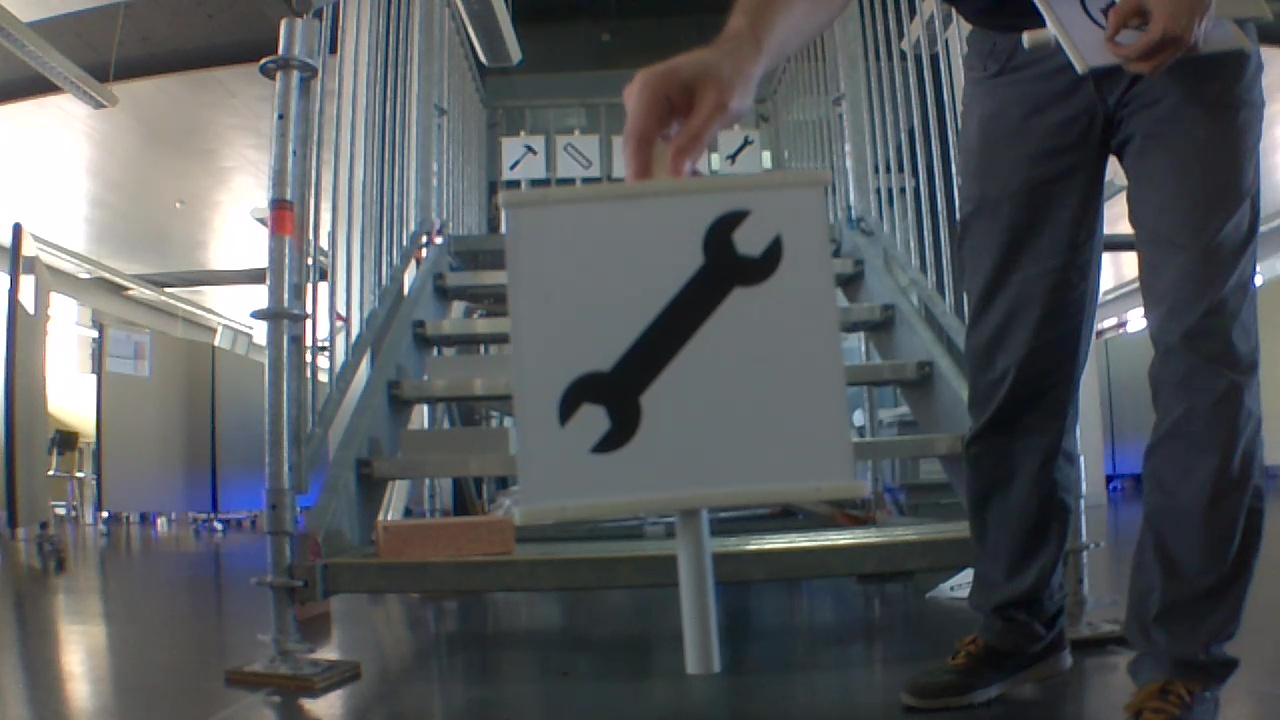brick: (375, 516, 511, 562), (398, 429, 511, 457), (424, 354, 513, 378)
hammer: (508, 141, 538, 175)
ruler: (560, 140, 595, 173)
wrench: (548, 196, 792, 467), (721, 132, 758, 168)
